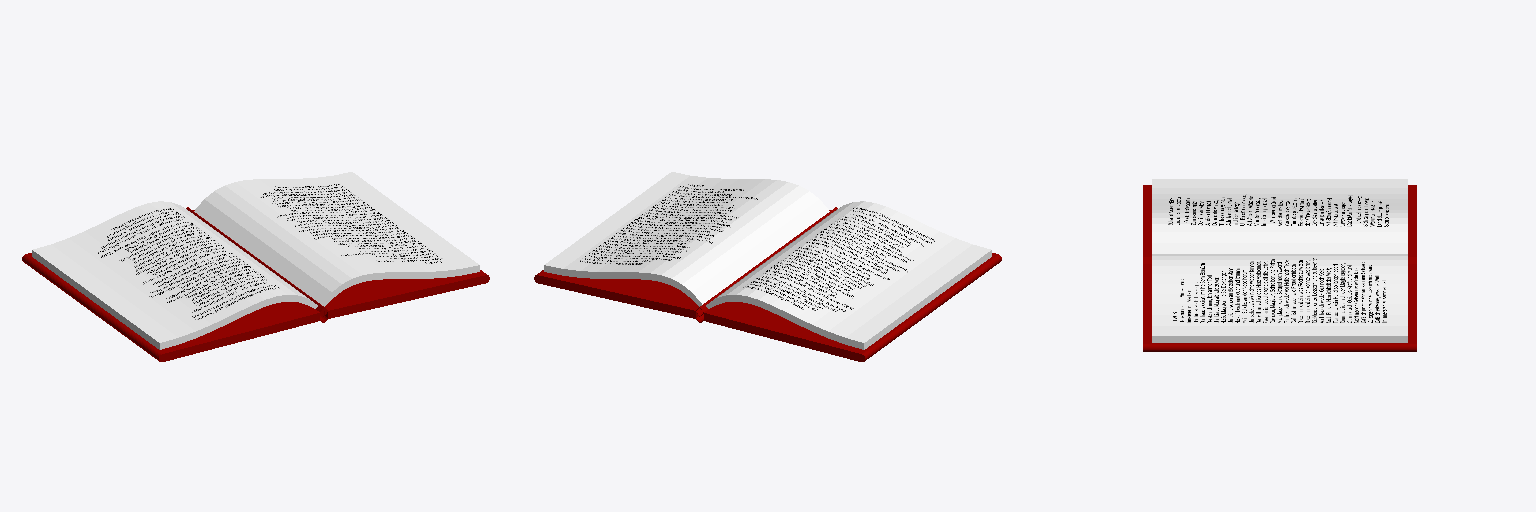
3 renders of one model, left to right at view 1: azimuth 30°, elevation 25°; view 2: azimuth 150°, elevation 25°; view 3: azimuth 270°, elevation 25°, orthographic.
Parts seen in each view (by area): view 1: Pages, Plane; view 2: Pages, Plane; view 3: Pages, Plane.
Boxes of the visible parts, box(x1,y1,x2,y2) form: Pages: box(32, 172, 479, 349); Plane: box(22, 207, 489, 361); Pages: box(544, 172, 991, 349); Plane: box(534, 207, 1001, 361); Pages: box(1152, 179, 1407, 342); Plane: box(1143, 185, 1416, 351).
Size of the model in its own units: 4.2 by 0.4094 by 3.
2 materials, 1 textured.